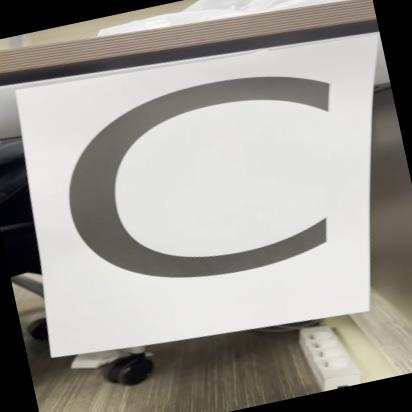seat: (21, 21, 395, 366)
